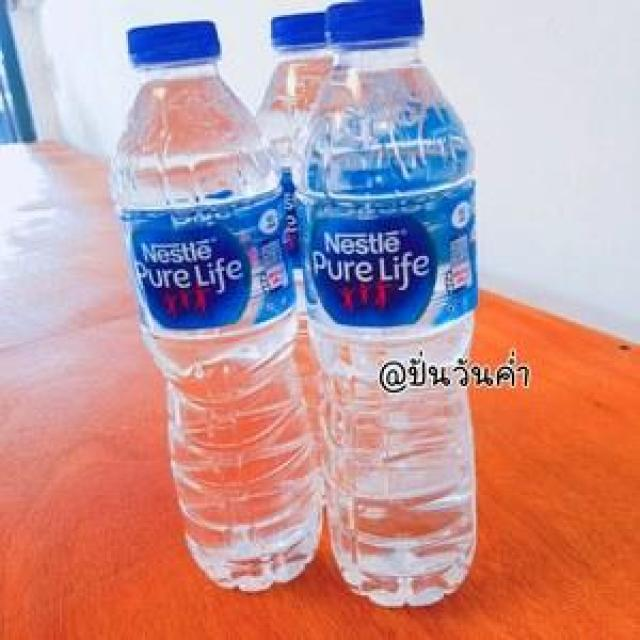bottle: (100, 9, 333, 598), (284, 0, 488, 619), (223, 6, 415, 518)
